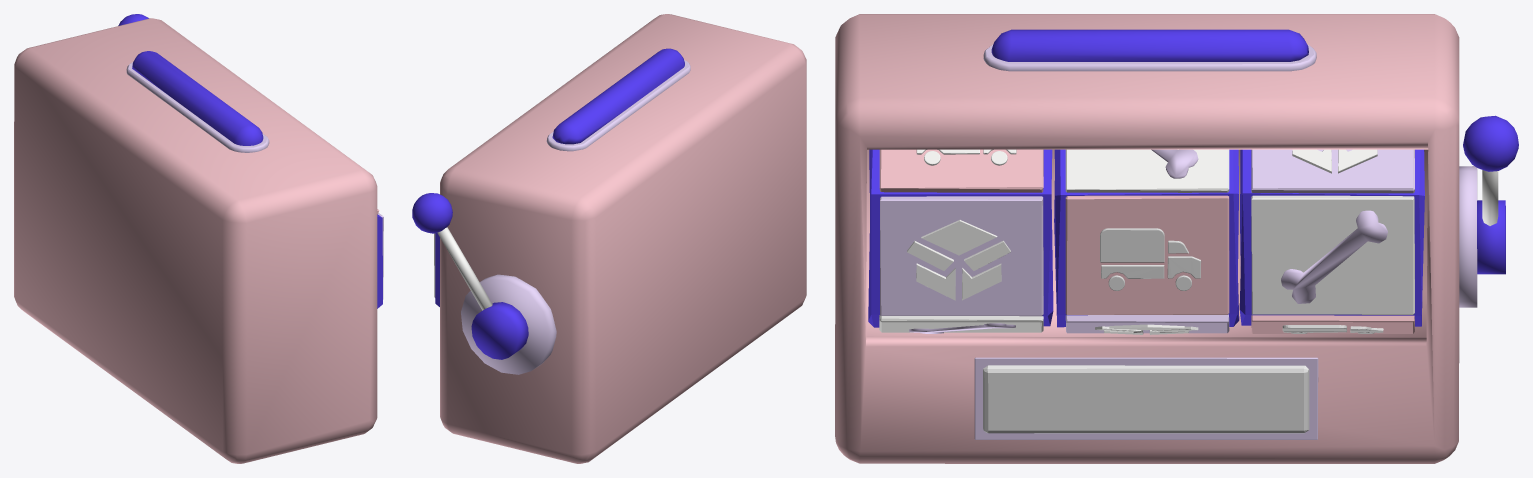
Rendered from slot_machine_5.glb.
The picture shows the model from 3 angles, left to right: view 1: azimuth 30°, elevation 25°; view 2: azimuth 150°, elevation 25°; view 3: azimuth 270°, elevation 25°; orthographic projection. The views are drawn at different scales.
Parts seen in each view (by area): view 1: boite, gyro, gyro base, roue L; view 2: boite, manivelle base_1, gyro, manivelle base_2, gyro base, manivelle boule, manivelle poignée; view 3: boite, résultat, roue L_blanc, roue M_rose.001, roue L_lilas, gyro, résultat base, roue L_rose.001, roue M_blanc.001, roue R_lilas, roue R, roue L (+17 smaller).
Part boxes in pixels (x1,y1,x2,y2): boite: (14, 18, 377, 463); gyro: (132, 51, 263, 145); gyro base: (126, 62, 269, 152); roue L: (377, 214, 382, 308); boite: (440, 14, 806, 463); manivelle base_1: (461, 274, 556, 374); gyro: (552, 48, 684, 144); manivelle base_2: (471, 302, 528, 359); gyro base: (546, 60, 690, 151); manivelle boule: (412, 193, 452, 233); manivelle poignée: (437, 227, 492, 310); boite: (835, 14, 1459, 463); résultat: (983, 365, 1309, 433); roue L_blanc: (1251, 195, 1414, 314); roue M_rose.001: (1065, 195, 1229, 314); roue L_lilas: (880, 196, 1043, 316); gyro: (991, 29, 1308, 61); résultat base: (974, 357, 1318, 439); roue L_rose.001: (879, 149, 1043, 192); roue M_blanc.001: (1065, 149, 1229, 192); roue R_lilas: (1251, 149, 1414, 193); roue R: (1239, 149, 1424, 326); roue L: (868, 149, 1053, 327).
Size of what is drawn, in the model's own units: 2.01 by 3.18 by 5.02.
